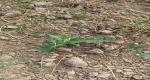bodyak: (32, 33, 121, 55)
